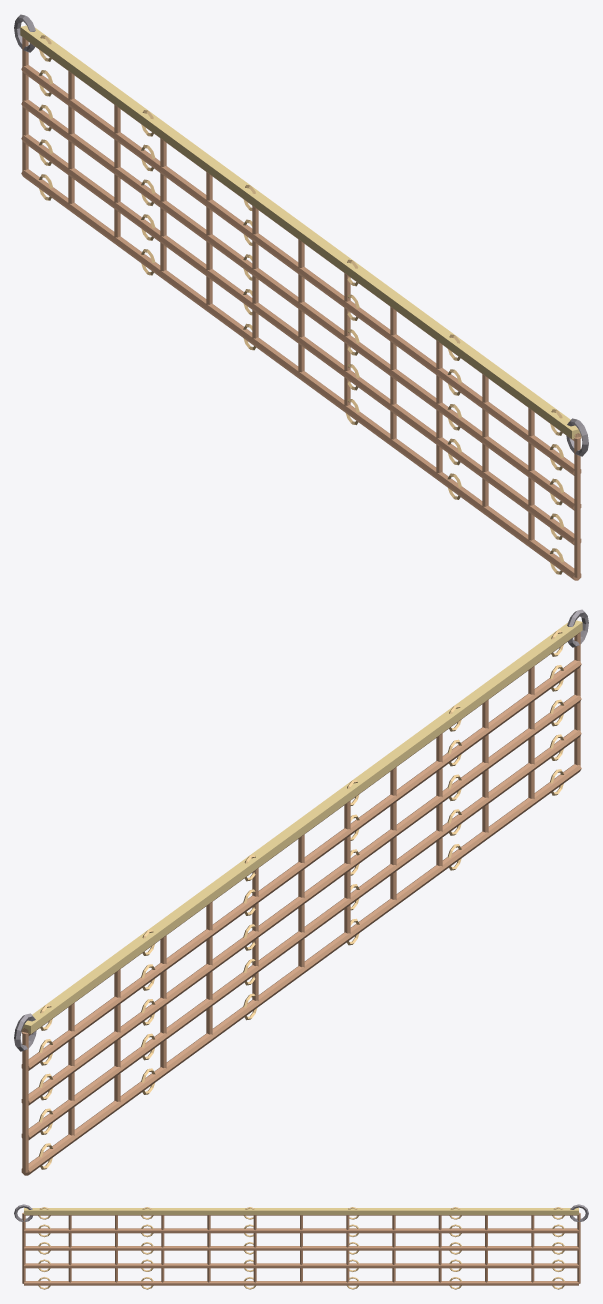
The model's file is red_cadenas.glb.
3 renders of one model, top to bottom at view 1: azimuth 30°, elevation 25°; view 2: azimuth 150°, elevation 25°; view 3: azimuth 270°, elevation 25°, orthographic. The views are drawn at different scales.
Parts seen in each view (by area): view 1: red_cadenas; view 2: red_cadenas; view 3: red_cadenas.
Part boxes in pixels (left/top/right/bottom): red_cadenas: left=14, top=14, right=588, bottom=580; red_cadenas: left=14, top=609, right=588, bottom=1175; red_cadenas: left=14, top=1204, right=588, bottom=1289.
Bounding box in the file's own units: 0.12 × 1.83 × 11.19.
